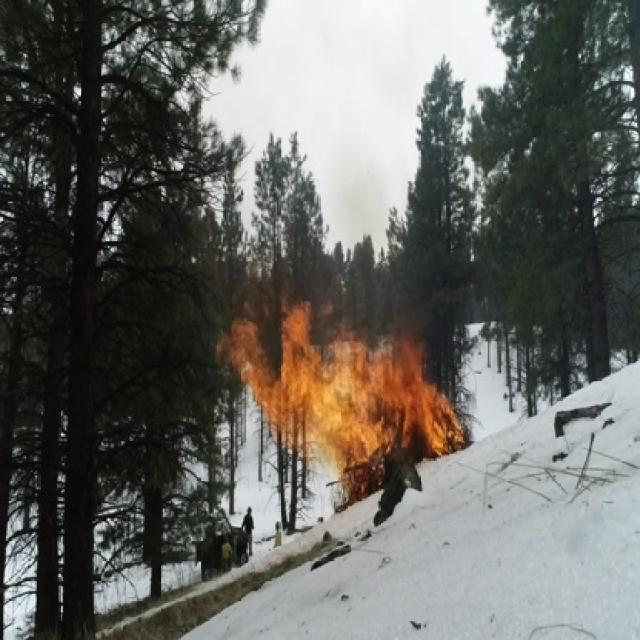Fire: (214, 294, 471, 504)
